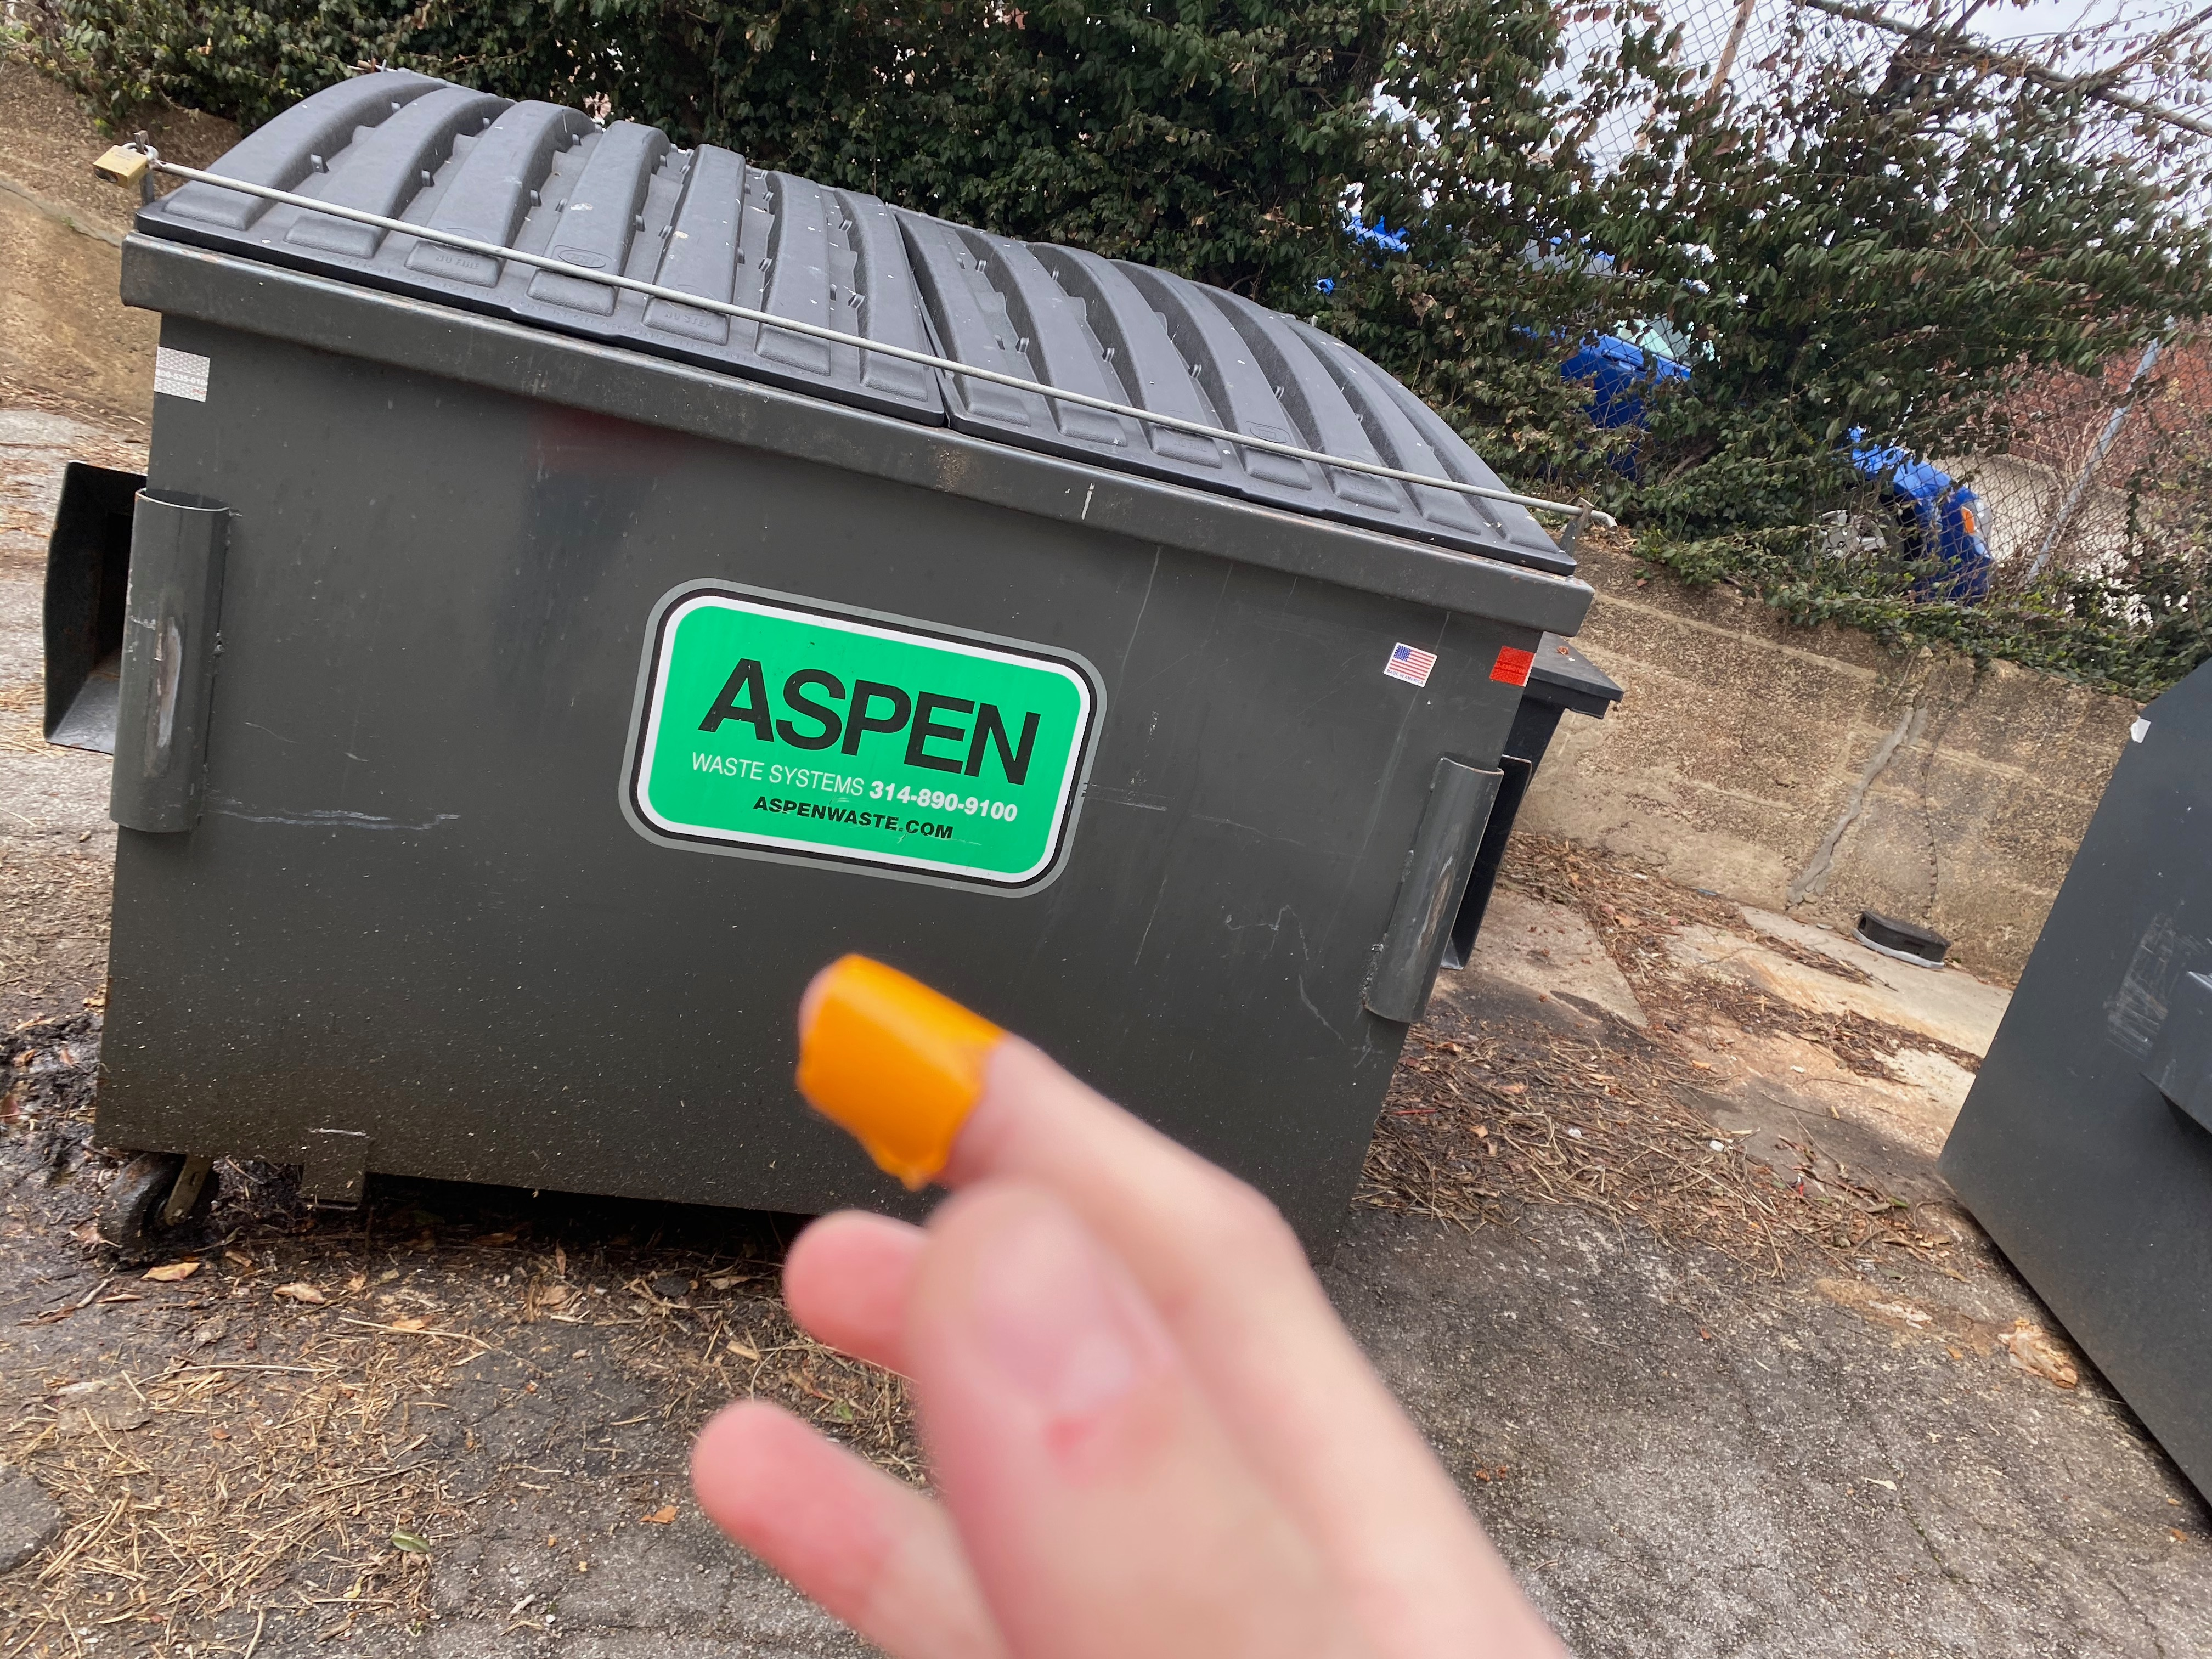fingertip: (763, 941, 1061, 1204)
